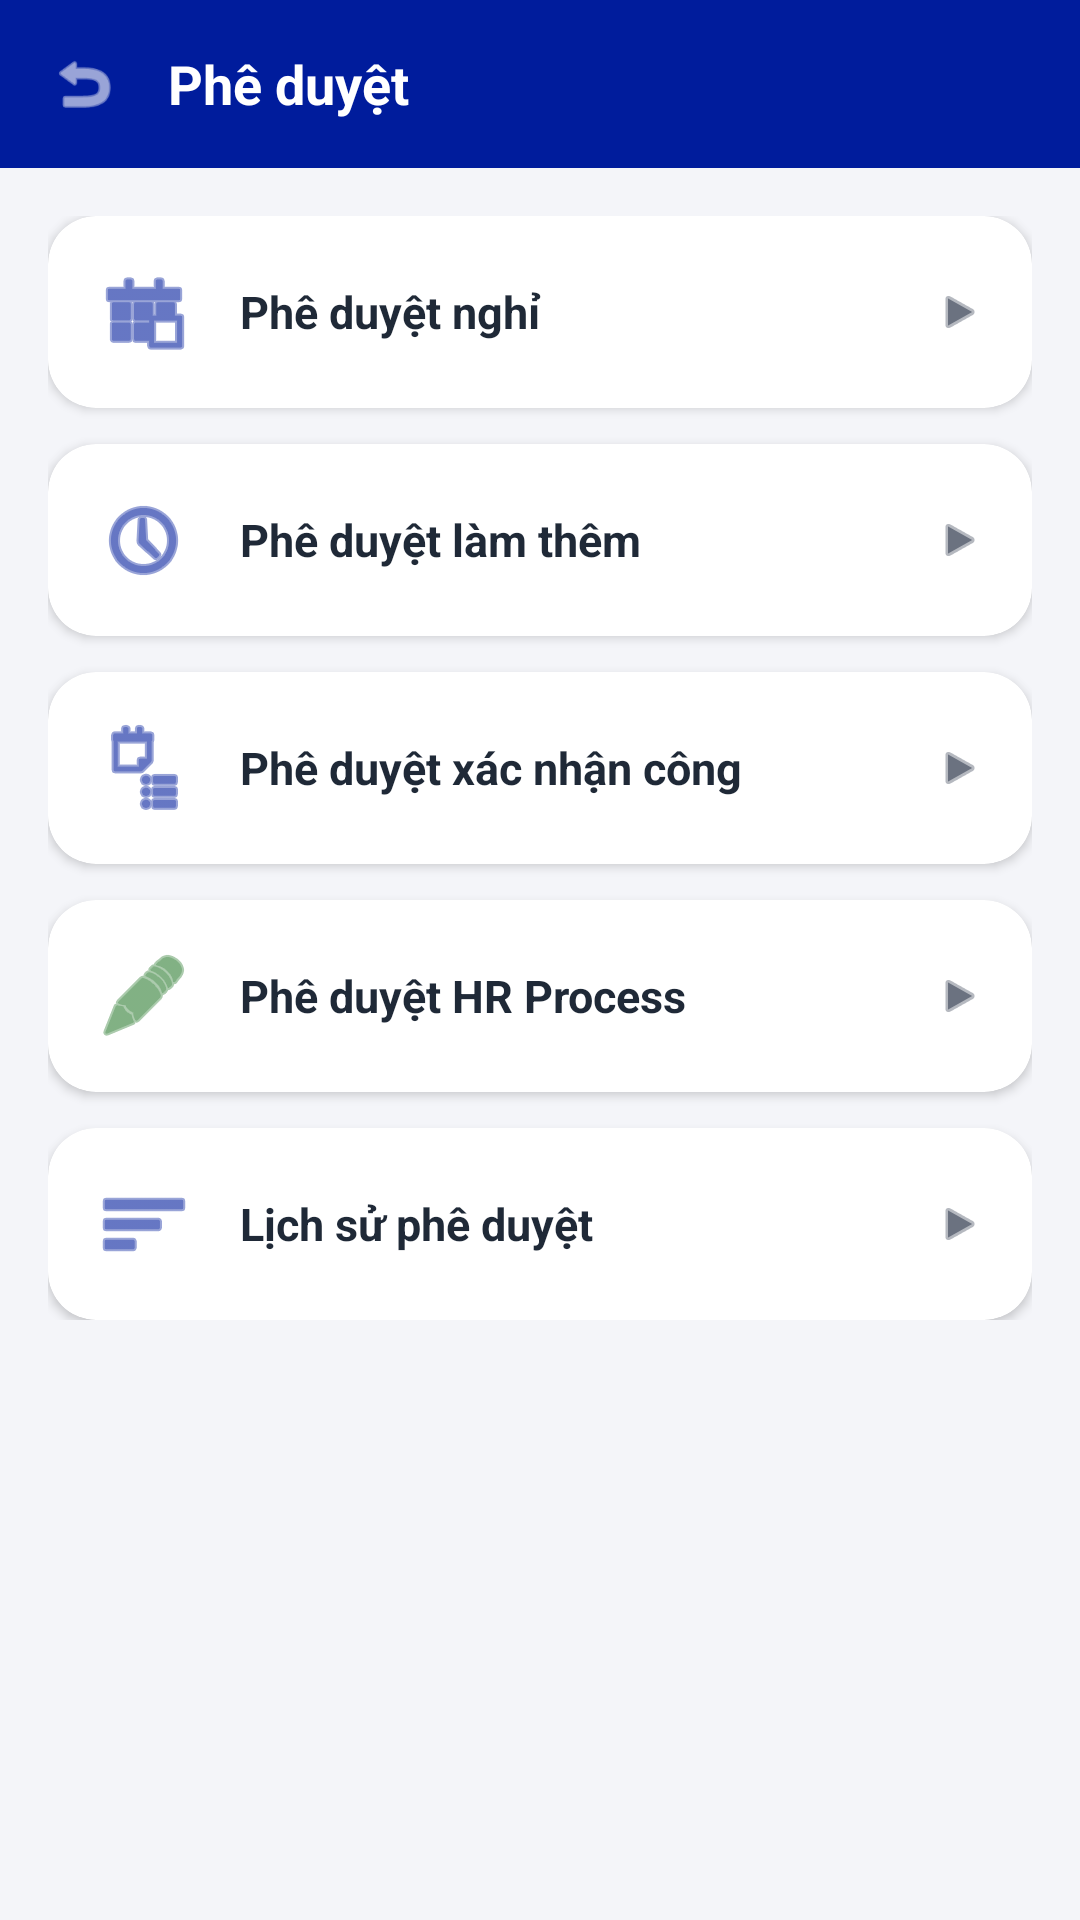

Named icons in this screenshot (1080px×1920px) and their centers, [x,y]:
agenda: [144,767]
edit: [143,995]
play: [960,312], [960,540], [960,768], [960,996], [960,1224]
recent history: [143,540]
revert: [85,84]
sort by size: [144,1224]
today: [145,313]
